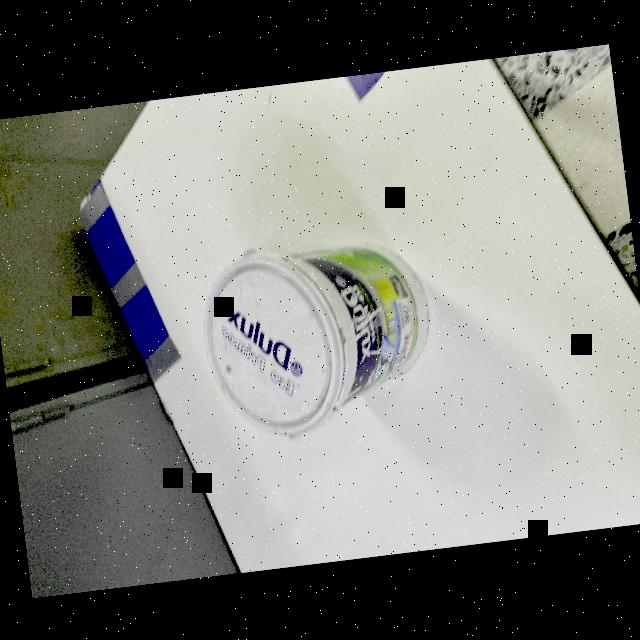paint_bucket: (174, 215, 444, 456)
